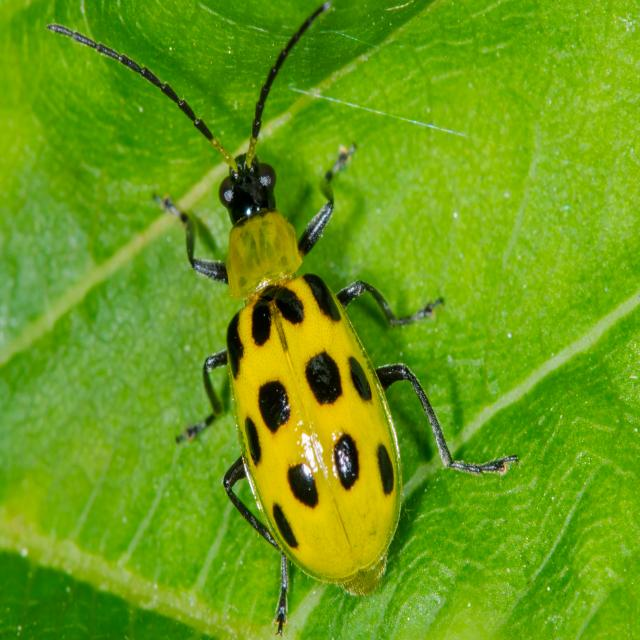cucumber_beetle: (39, 10, 509, 625)
